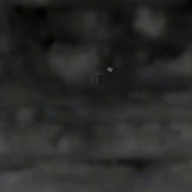Target: (107, 67, 113, 73)
